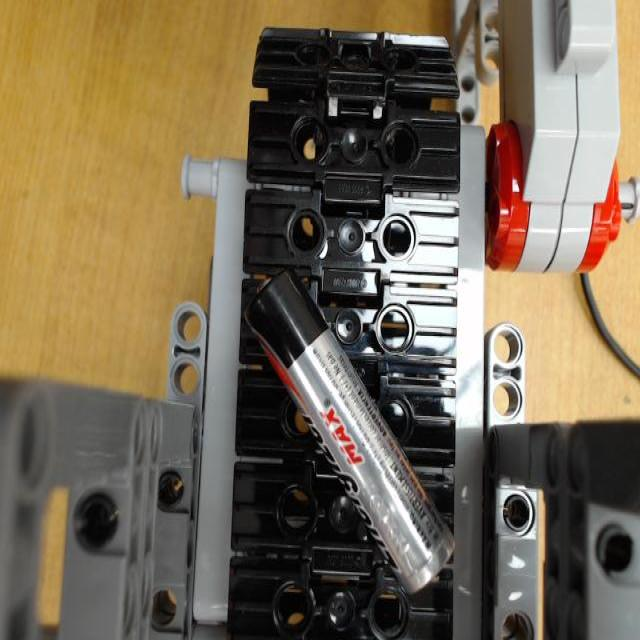AAA: (243, 262, 457, 595)
